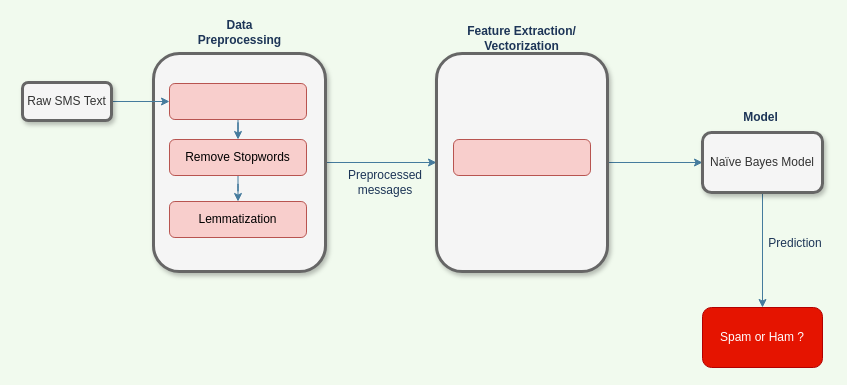
Some shapes in this 847 by 385 pixel diagram are drawn without their labels. Each missing label, with the centre of its shape:
"Bag of Word Count Vectorizer" goes at point 521,157.
"Tokenization" goes at point 237,101.
